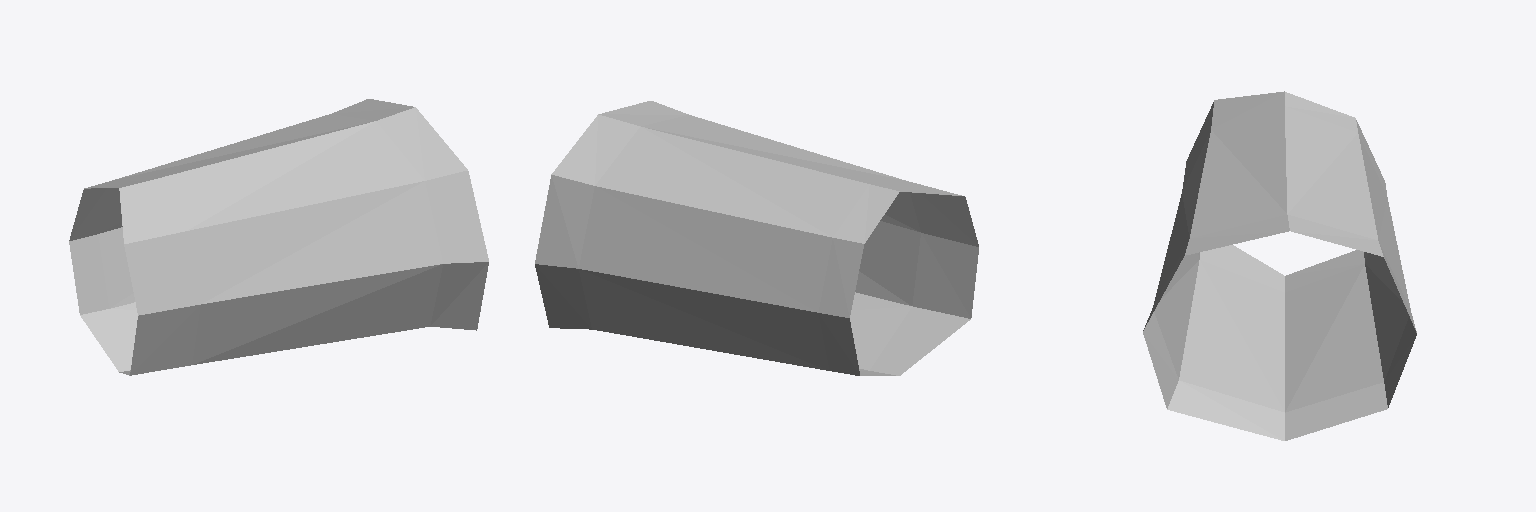
The model's file is low_arms_L.obj.
3 renders of one model, left to right at view 1: azimuth 30°, elevation 25°; view 2: azimuth 150°, elevation 25°; view 3: azimuth 270°, elevation 25°, orthographic.
Parts seen in each view (by area): view 1: KERORO; view 2: KERORO; view 3: KERORO.
Part boxes in pixels (x1,y1,x2,y2): KERORO: (69, 99, 488, 375); KERORO: (535, 101, 978, 375); KERORO: (1143, 91, 1416, 440).
Bounding box in the file's own units: 0.9757 × 0.595 × 0.7042.